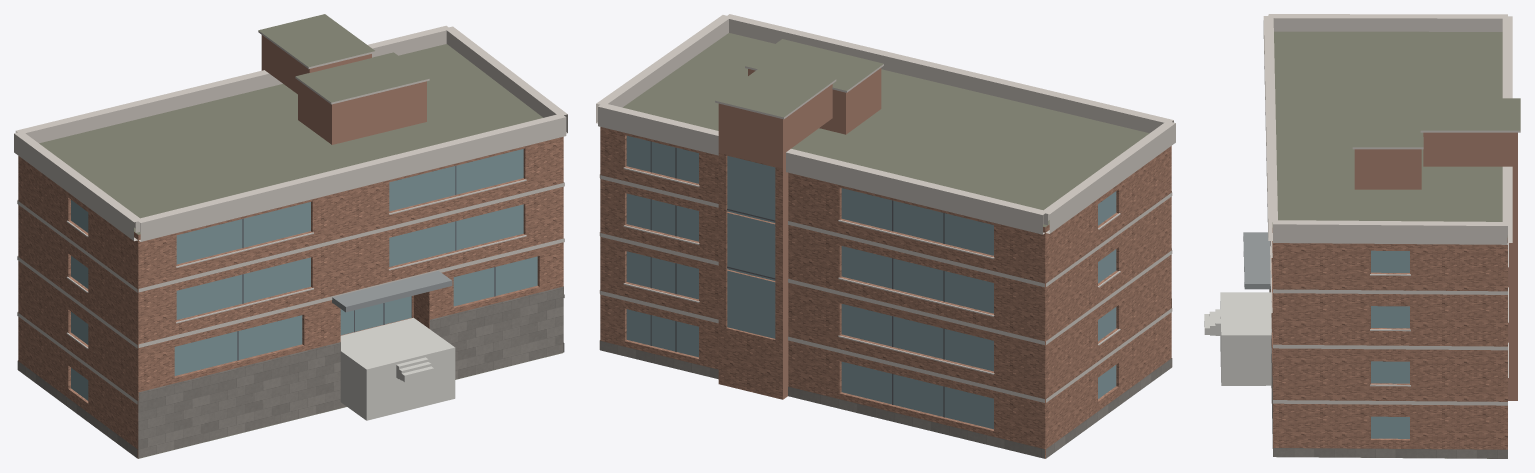
The picture shows the model from 3 angles, left to right: view 1: azimuth 30°, elevation 25°; view 2: azimuth 150°, elevation 25°; view 3: azimuth 270°, elevation 25°; orthographic projection. The views are drawn at different scales.
Visible parts, largest first — view 1: b923__wall, b923__roof, b923__trim, b923__glass, b923__base, b923__entranceStair, b923__wall2, b923__canopy; view 2: b923__wall, b923__glass, b923__roof, b923__trim, b923__wall2, b923__base, b923__frame; view 3: b923__wall, b923__roof, b923__trim, b923__wall2, b923__entranceStair, b923__glass, b923__base, b923__canopy.
Part boxes in pixels (x1,y1,x2,y2): b923__wall: (18, 136, 563, 458); b923__roof: (39, 14, 563, 458); b923__trim: (14, 25, 567, 404); b923__glass: (71, 149, 537, 400); b923__base: (17, 286, 564, 458); b923__entranceStair: (340, 317, 455, 420); b923__wall2: (261, 35, 426, 144); b923__canopy: (332, 271, 452, 312); b923__wall: (600, 127, 1171, 458); b923__glass: (626, 135, 1116, 429); b923__roof: (623, 33, 1149, 458); b923__trim: (596, 14, 1175, 402); b923__wall2: (718, 68, 881, 399); b923__base: (599, 298, 1172, 458); b923__frame: (650, 141, 944, 417); b923__wall: (1270, 228, 1507, 449); b923__roof: (1272, 31, 1520, 458); b923__trim: (1263, 14, 1520, 405); b923__wall2: (1354, 132, 1517, 400); b923__entranceStair: (1204, 292, 1271, 385); b923__glass: (1371, 250, 1409, 438); b923__base: (1269, 289, 1507, 458); b923__canopy: (1243, 232, 1270, 289).
Size of the model in its own units: 29.62 by 17.69 by 18.66.
Materials: 10 (2 with a texture image).
